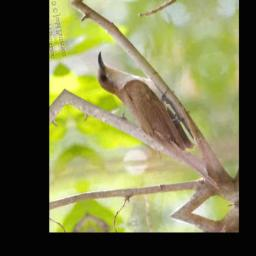Cuckoo: (92, 35, 196, 165)
